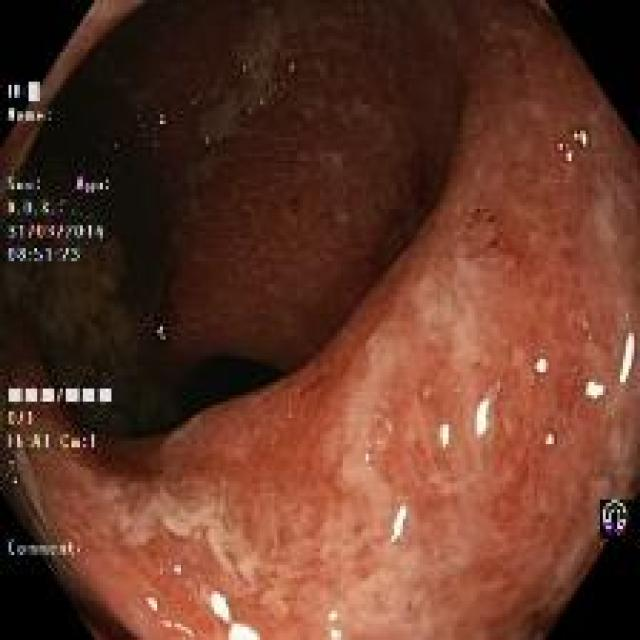ulcerative-colitis-grade-2-3: (15, 17, 640, 638)
